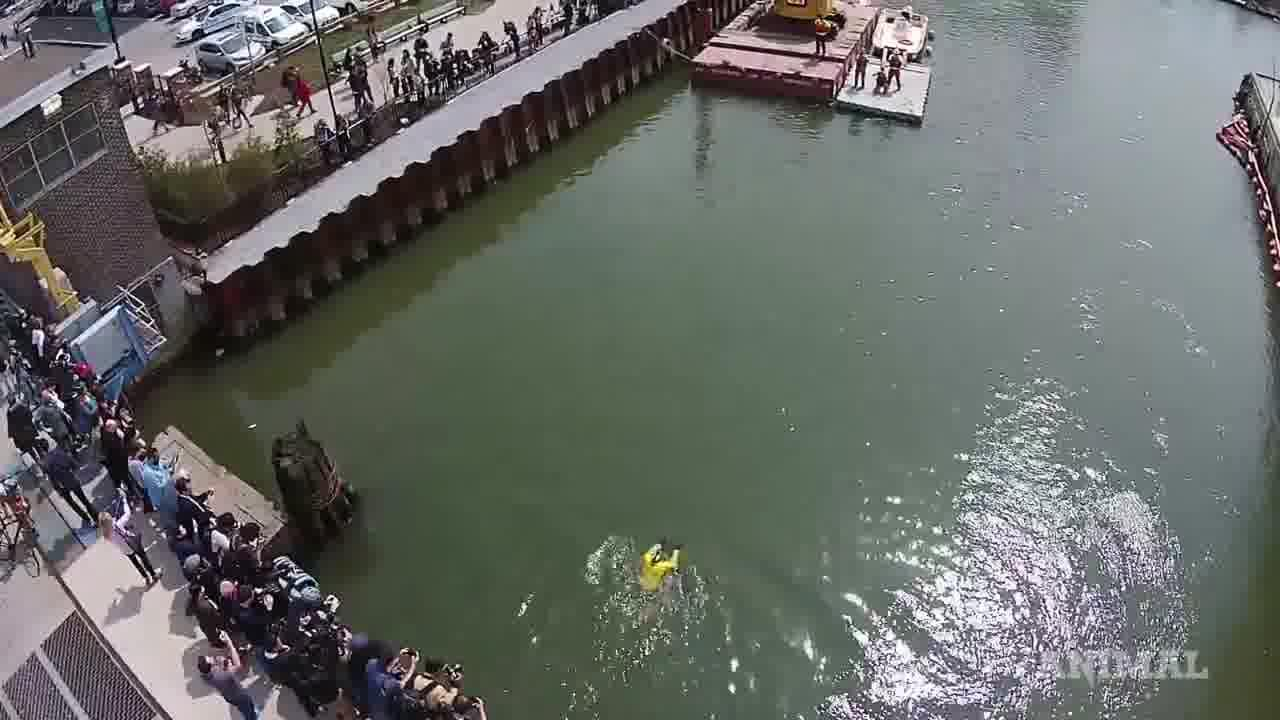swimmer: (628, 533, 689, 583)
